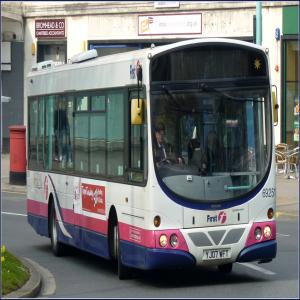Vehicle-registration-plate: (204, 249, 231, 262)
